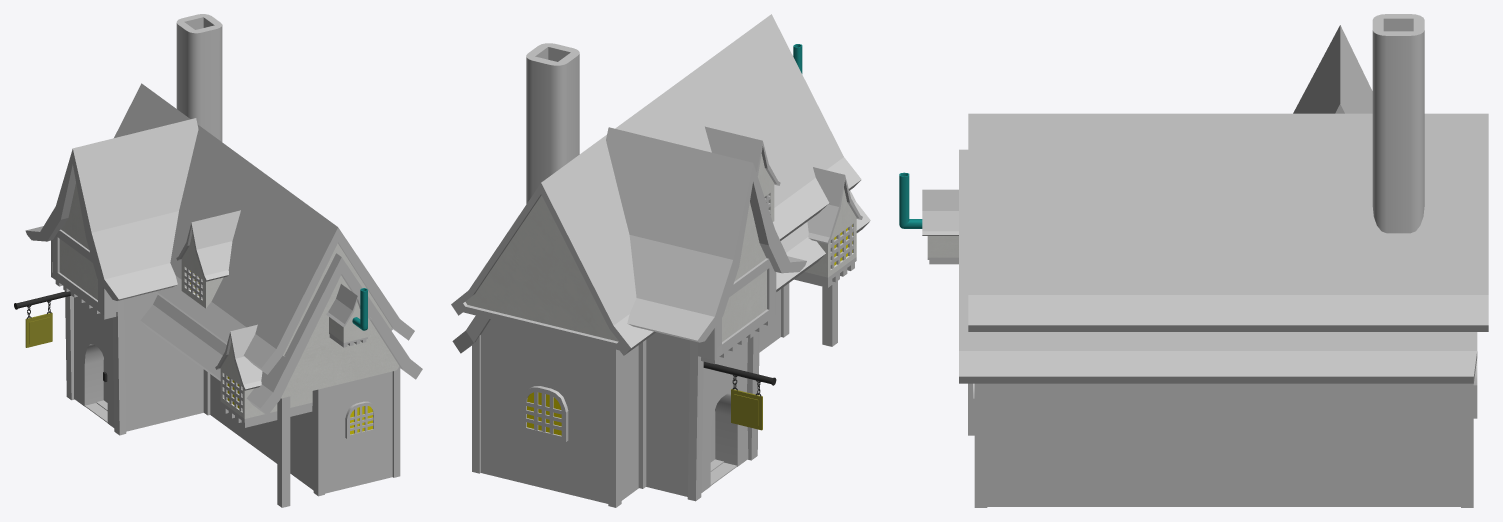
The model's file is アイテム屋.fbx.
3 views of the same model, side by side, from view 1: azimuth 30°, elevation 25°; view 2: azimuth 150°, elevation 25°; view 3: azimuth 270°, elevation 25° (orthographic). The views are drawn at different scales.
Visible parts, largest first — view 1: 立方体.040, 立方体.049; view 2: 立方体.040, 立方体.049; view 3: 立方体.040.
Part boxes in pixels (box(x1,y1,x2,y2)): 立方体.040: box(14, 14, 422, 507); 立方体.049: box(25, 313, 52, 347); 立方体.040: box(451, 14, 870, 507); 立方体.049: box(731, 389, 762, 430); 立方体.040: box(899, 14, 1488, 507).
Size of the model in its own units: 5861 by 7959 by 9282.
